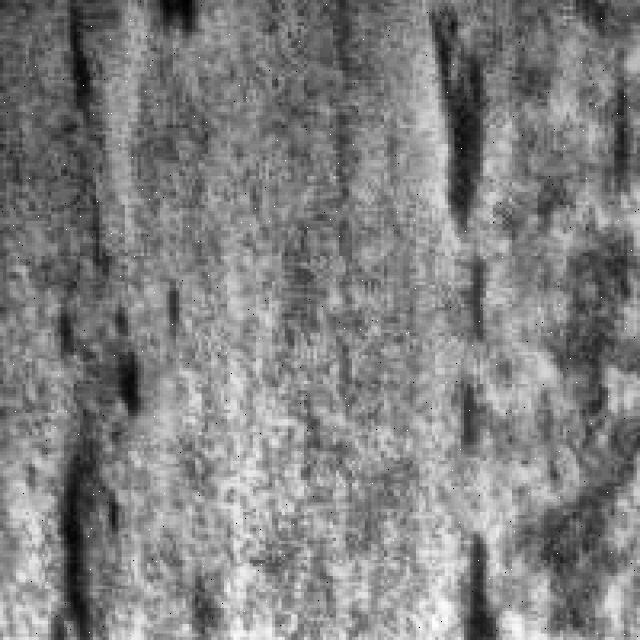Patches: (38, 272, 173, 627), (538, 208, 640, 633), (428, 0, 518, 234), (454, 243, 518, 444), (460, 516, 516, 630), (61, 0, 102, 99), (454, 368, 496, 464)
